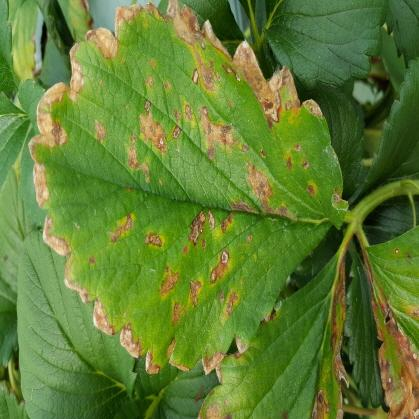Angular Leafspot: (27, 0, 350, 376), (198, 234, 350, 418), (357, 226, 418, 418)
